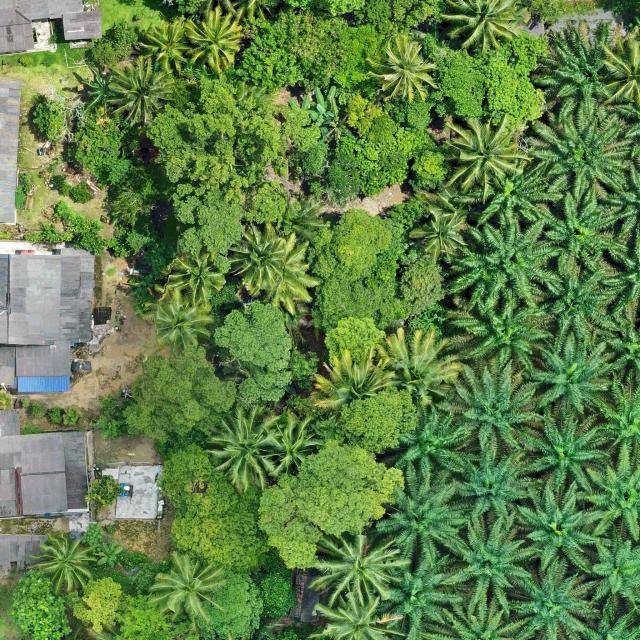Tree: (124, 299, 294, 443), (257, 439, 405, 571), (156, 441, 272, 577), (451, 213, 566, 317), (523, 180, 640, 280), (369, 456, 472, 566), (521, 103, 634, 202), (433, 357, 548, 454), (443, 507, 533, 613), (500, 552, 607, 640), (514, 402, 612, 496), (531, 20, 623, 109), (376, 326, 466, 416), (445, 440, 543, 522), (306, 529, 411, 605), (526, 332, 618, 418), (512, 485, 595, 577), (200, 402, 283, 492), (455, 299, 557, 371), (373, 548, 464, 626), (541, 262, 621, 346), (440, 114, 520, 197), (308, 347, 396, 418), (464, 161, 565, 222), (148, 551, 222, 633), (64, 106, 137, 186), (340, 384, 420, 454), (393, 402, 472, 471), (574, 462, 640, 544), (216, 220, 284, 296), (193, 568, 264, 640), (366, 35, 440, 104), (589, 367, 640, 462), (309, 586, 398, 640), (8, 565, 72, 640), (441, 0, 526, 56), (182, 4, 246, 74), (108, 58, 174, 124), (152, 286, 216, 352), (30, 531, 98, 593), (31, 74, 88, 146), (586, 531, 640, 606), (67, 575, 125, 634), (170, 251, 228, 308), (136, 19, 192, 76), (408, 212, 468, 264), (269, 414, 320, 474), (599, 38, 640, 103), (317, 96, 357, 145), (82, 63, 120, 114), (86, 472, 125, 507), (308, 86, 338, 126), (110, 22, 139, 58), (0, 385, 12, 410)
